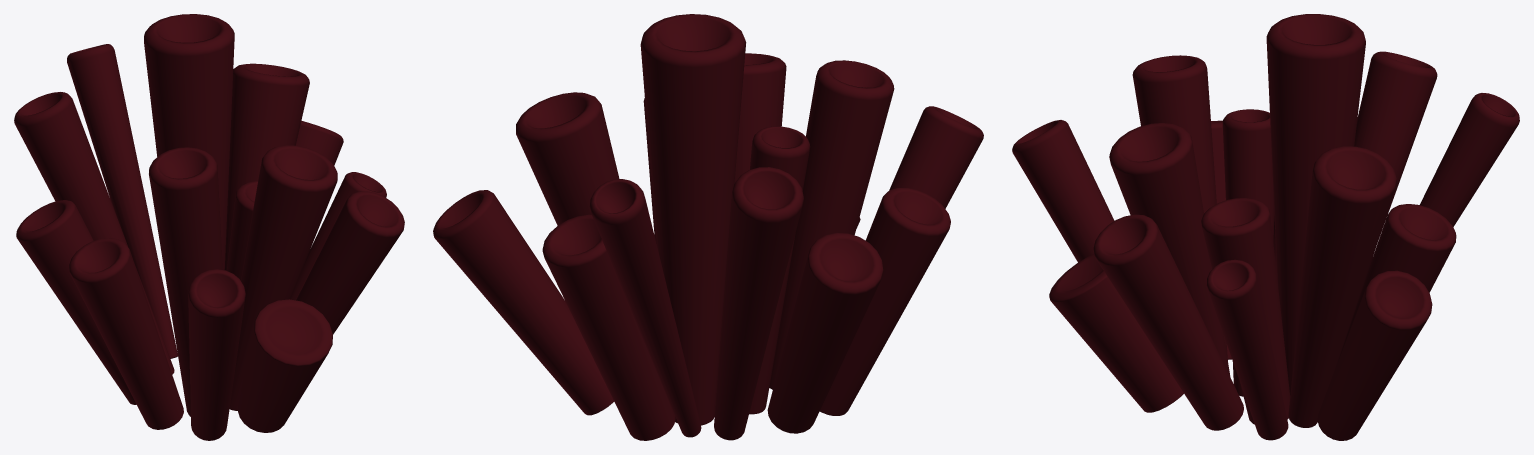
Rendered from coral_8.obj.
3 views of the same model, side by side, from view 1: azimuth 30°, elevation 25°; view 2: azimuth 150°, elevation 25°; view 3: azimuth 270°, elevation 25° (orthographic). The views are drawn at different scales.
Parts seen in each view (by area): view 1: pCylinder35_ParlakVersiyon_0; view 2: pCylinder35_ParlakVersiyon_0; view 3: pCylinder35_ParlakVersiyon_0.
Boxes of the visible parts, bbox=[...] form: pCylinder35_ParlakVersiyon_0: bbox=[14, 14, 404, 440]; pCylinder35_ParlakVersiyon_0: bbox=[433, 14, 983, 440]; pCylinder35_ParlakVersiyon_0: bbox=[1012, 14, 1519, 440].
Size of the model in its own units: 0.6723 by 0.6319 by 0.7697.
